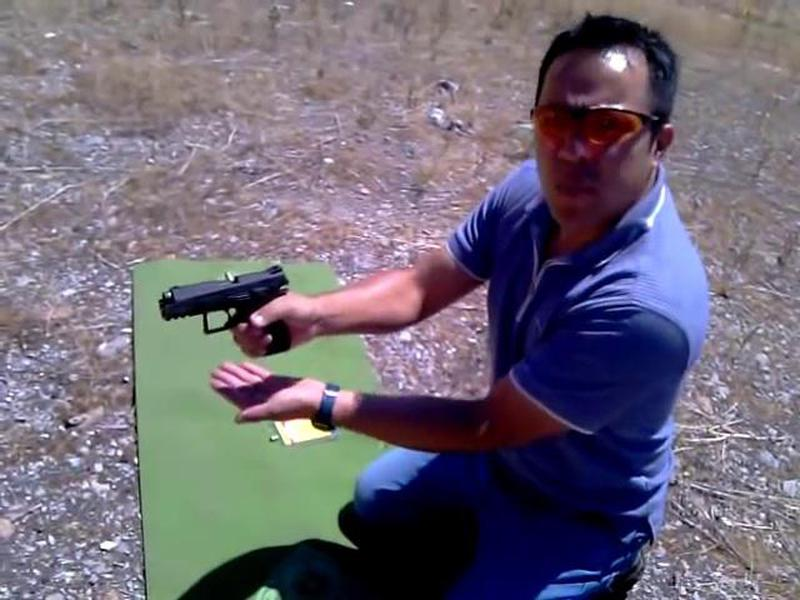Pistola: (137, 252, 309, 368)
